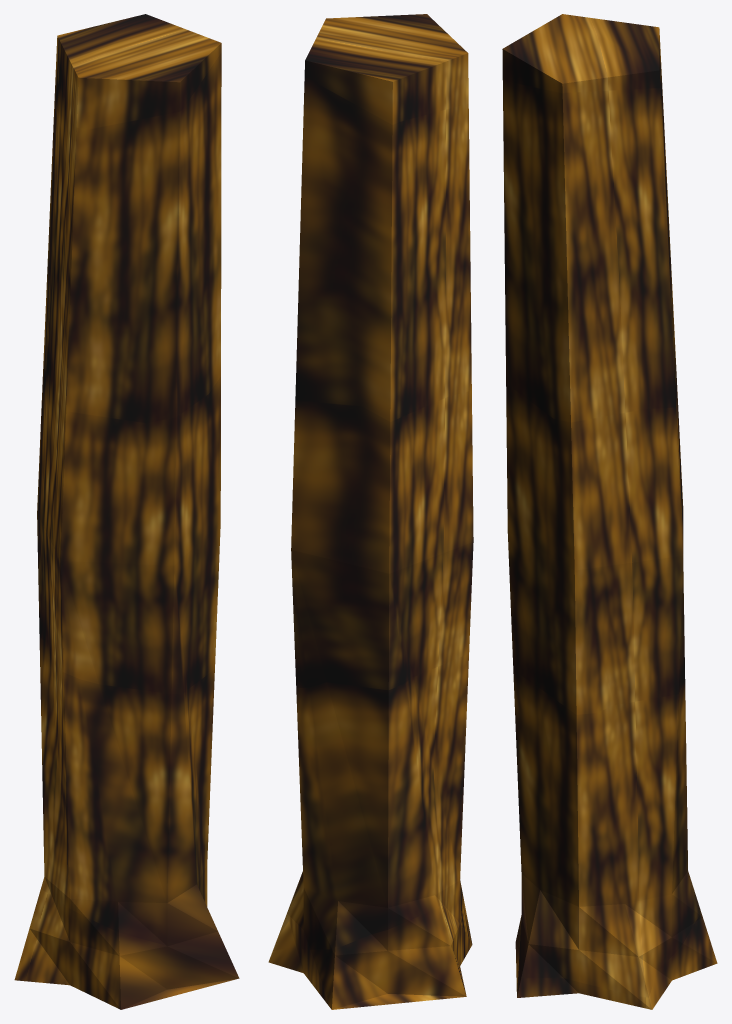
Rendered from MTree_1.gltf.
3 renders of one model, left to right at view 1: azimuth 30°, elevation 25°; view 2: azimuth 150°, elevation 25°; view 3: azimuth 270°, elevation 25°, orthographic.
Visible parts, largest first — view 1: MTree_1; view 2: MTree_1; view 3: MTree_1.
Part boxes in pixels (x1,y1,x2,y2): MTree_1: (14,14,239,1009); MTree_1: (268,14,473,1009); MTree_1: (502,14,717,1009).
Bounding box in the file's own units: 4.57 × 21.44 × 4.54.
Materials: 1 (1 with a texture image).
